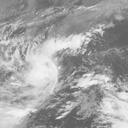cyclone: (24, 38, 93, 95)
